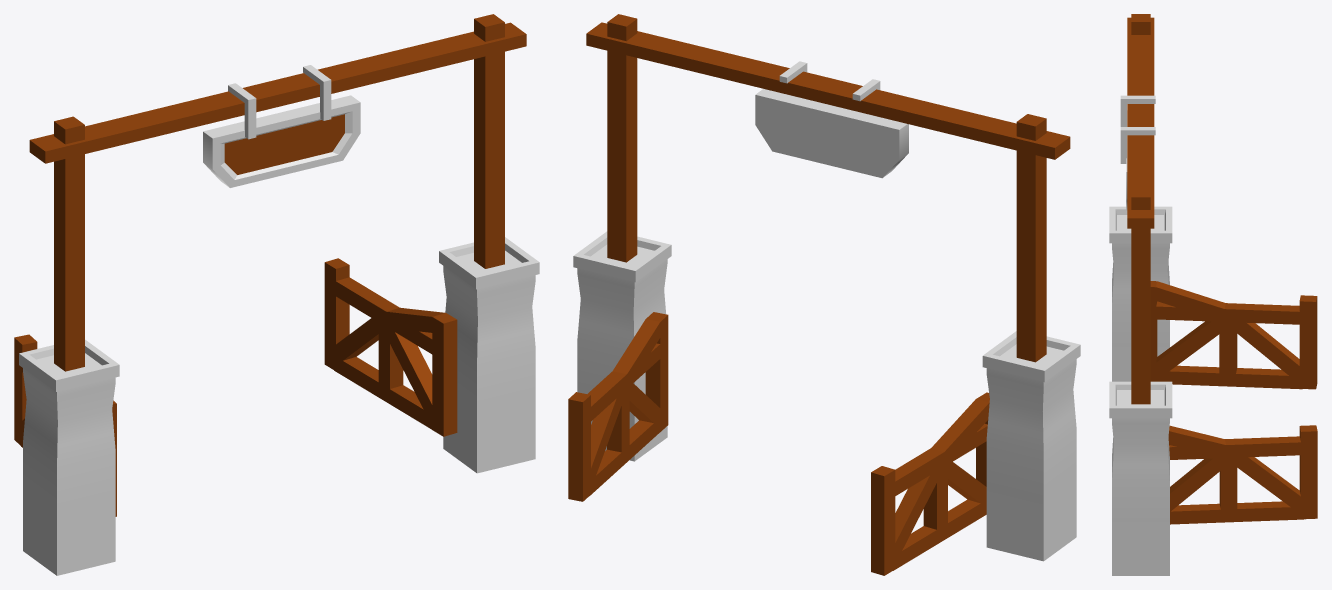
The model's file is Entry_gate.FBX.
3 views of the same model, side by side, from view 1: azimuth 30°, elevation 25°; view 2: azimuth 150°, elevation 25°; view 3: azimuth 270°, elevation 25° (orthographic). The views are drawn at different scales.
Visible parts, largest first — view 1: Entry_gate; view 2: Entry_gate; view 3: Entry_gate.
Part boxes in pixels (box(x1,y1,x2,y2)): Entry_gate: box(14, 14, 539, 575); Entry_gate: box(568, 14, 1080, 575); Entry_gate: box(1109, 14, 1317, 575).
Size of the model in its own units: 3.69 by 3.16 by 1.61.
1 material, 1 textured.
